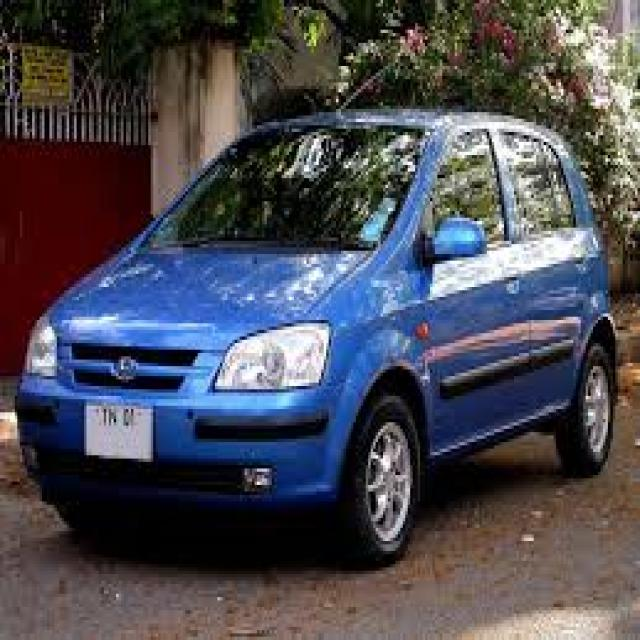car: (4, 115, 611, 554)
